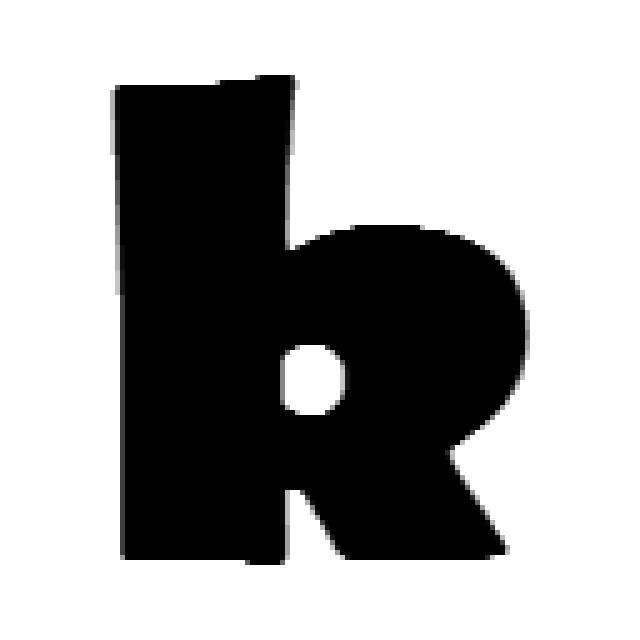K: (106, 79, 523, 558)
